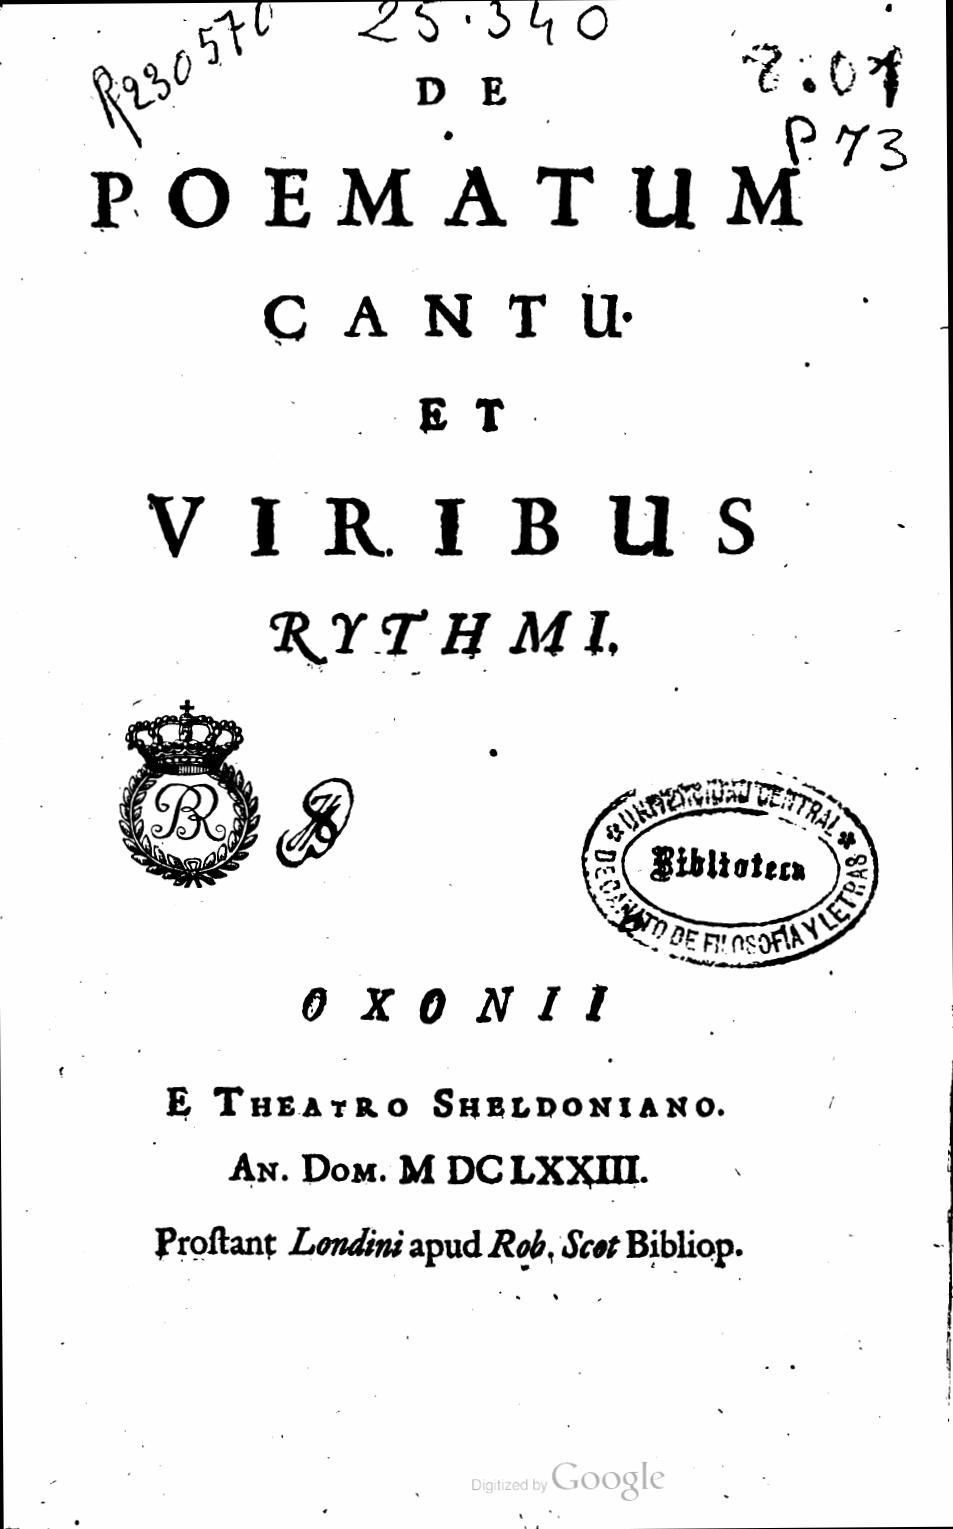title_page: (40, 64, 908, 1353)
